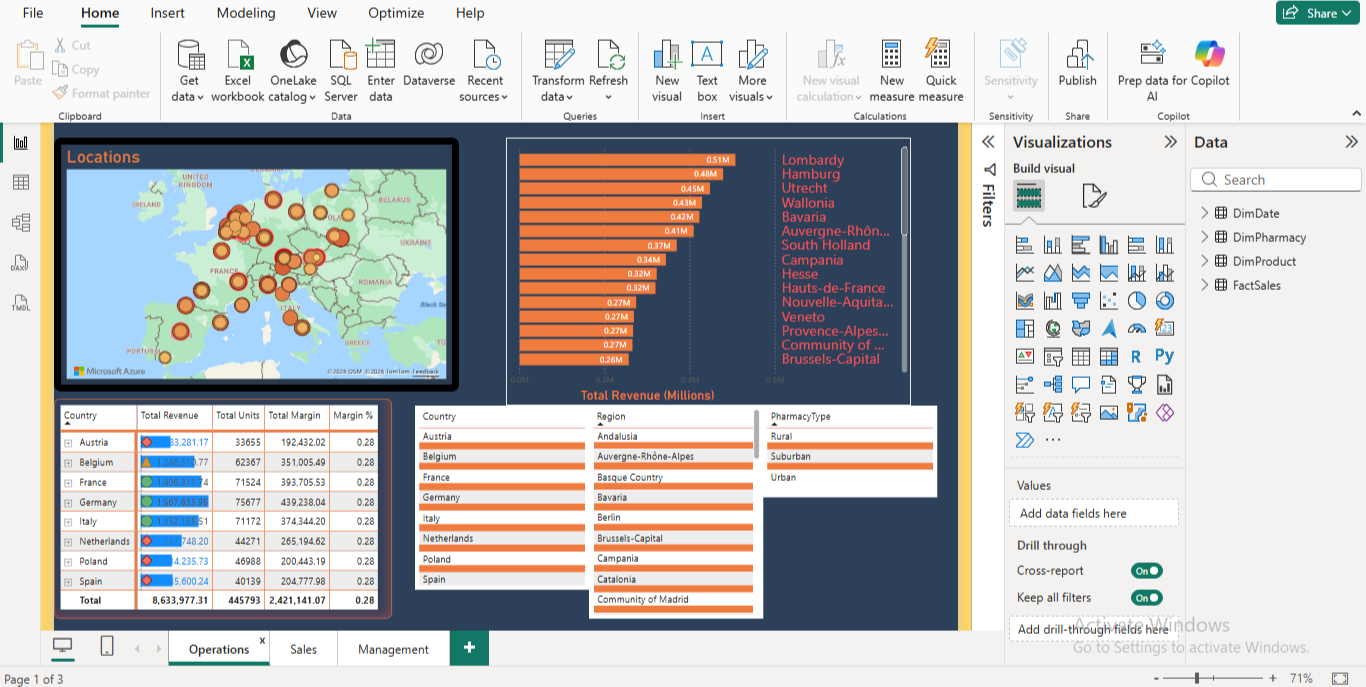

The dashboard page shown, as its layout file describes it:
{"tool":"powerbi","page":{"name":"Operations","canvas":[1280,720],"ordinal":0},"visuals":[{"type":"azureMap","title":"Locations","fields":{"Y":["DimPharmacy.Latitude"],"X":["DimPharmacy.Longitude"],"Size":["FactSales.Total Revenue"]},"box":[0,21.3,574,360],"z":0},{"type":"barChart","fields":{"Category":["DimPharmacy.Region"],"Y":["FactSales.Total Revenue"]},"box":[640.6,21.3,574,379.8],"z":1000},{"type":"pivotTable","fields":{"Rows":["DimPharmacy.Country","DimPharmacy.Region","DimPharmacy.PharmacyName"],"Values":["FactSales.Total Revenue","FactSales.Total Units","FactSales.Total Margin","FactSales.Margin %"]},"box":[0,391.2,479.1,311.8],"z":2000},{"type":"tableEx","fields":{"Values":["DimPharmacy.PharmacyType"]},"box":[1004.9,401.1,246.6,130.4],"z":3000},{"type":"tableEx","fields":{"Values":["DimPharmacy.Region"]},"box":[758.3,401.1,246.6,301.9],"z":4000},{"type":"tableEx","fields":{"Values":["DimPharmacy.Country"]},"box":[511.7,401.1,246.6,260.8],"z":5000}]}

Visuals, with their boxes on the page's 1280x720 design canvas (x1, y1, x2, y2). These are canvas units, not pixel positions in the 1366x687 screenshot, which may show the page scaled, cropped or inside an application window:
"Locations" azureMap: 0 21 574 381
barChart - DimPharmacy.Region x FactSales.Total Revenue: 641 21 1215 401
pivotTable - DimPharmacy.Country x DimPharmacy.Region: 0 391 479 703
tableEx - DimPharmacy.PharmacyType: 1005 401 1252 532
tableEx - DimPharmacy.Region: 758 401 1005 703
tableEx - DimPharmacy.Country: 512 401 758 662
